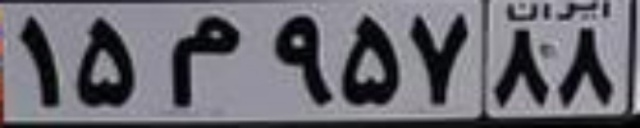1: (21, 18, 60, 108)
5: (337, 14, 400, 107), (74, 16, 137, 105)
7: (405, 11, 474, 105)
8: (557, 26, 615, 107), (493, 27, 549, 107)
9: (274, 15, 331, 105)
mim: (172, 14, 242, 107)
